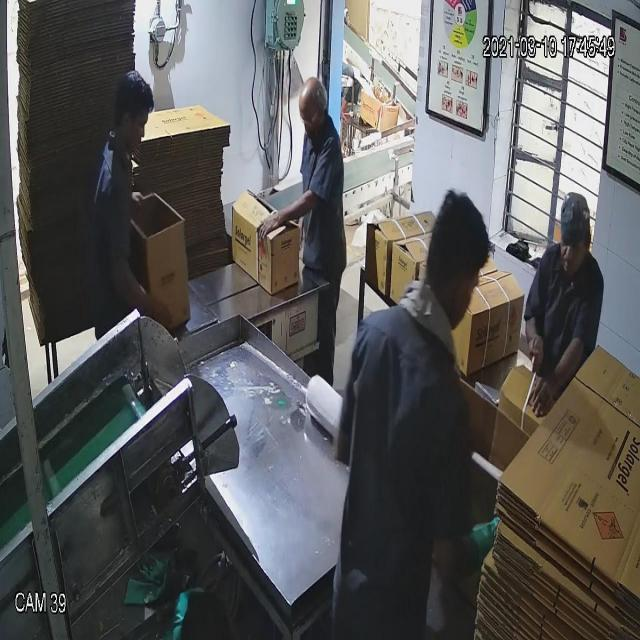No_Gloves: (64, 88, 565, 370)
